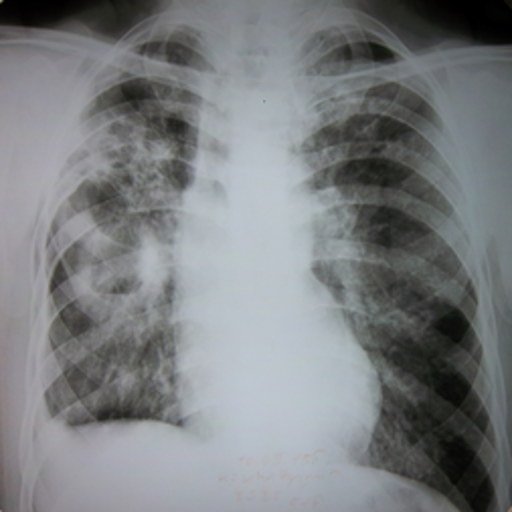TB: (55, 52, 189, 409), (310, 46, 438, 303)
